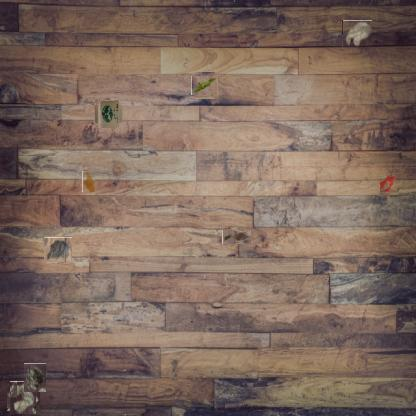dirty: (9, 383, 38, 413), (342, 20, 372, 47), (45, 237, 72, 263), (95, 102, 121, 127), (24, 363, 46, 392), (193, 74, 217, 97), (222, 230, 251, 244)
liquid: (379, 175, 395, 195), (82, 170, 95, 192)
